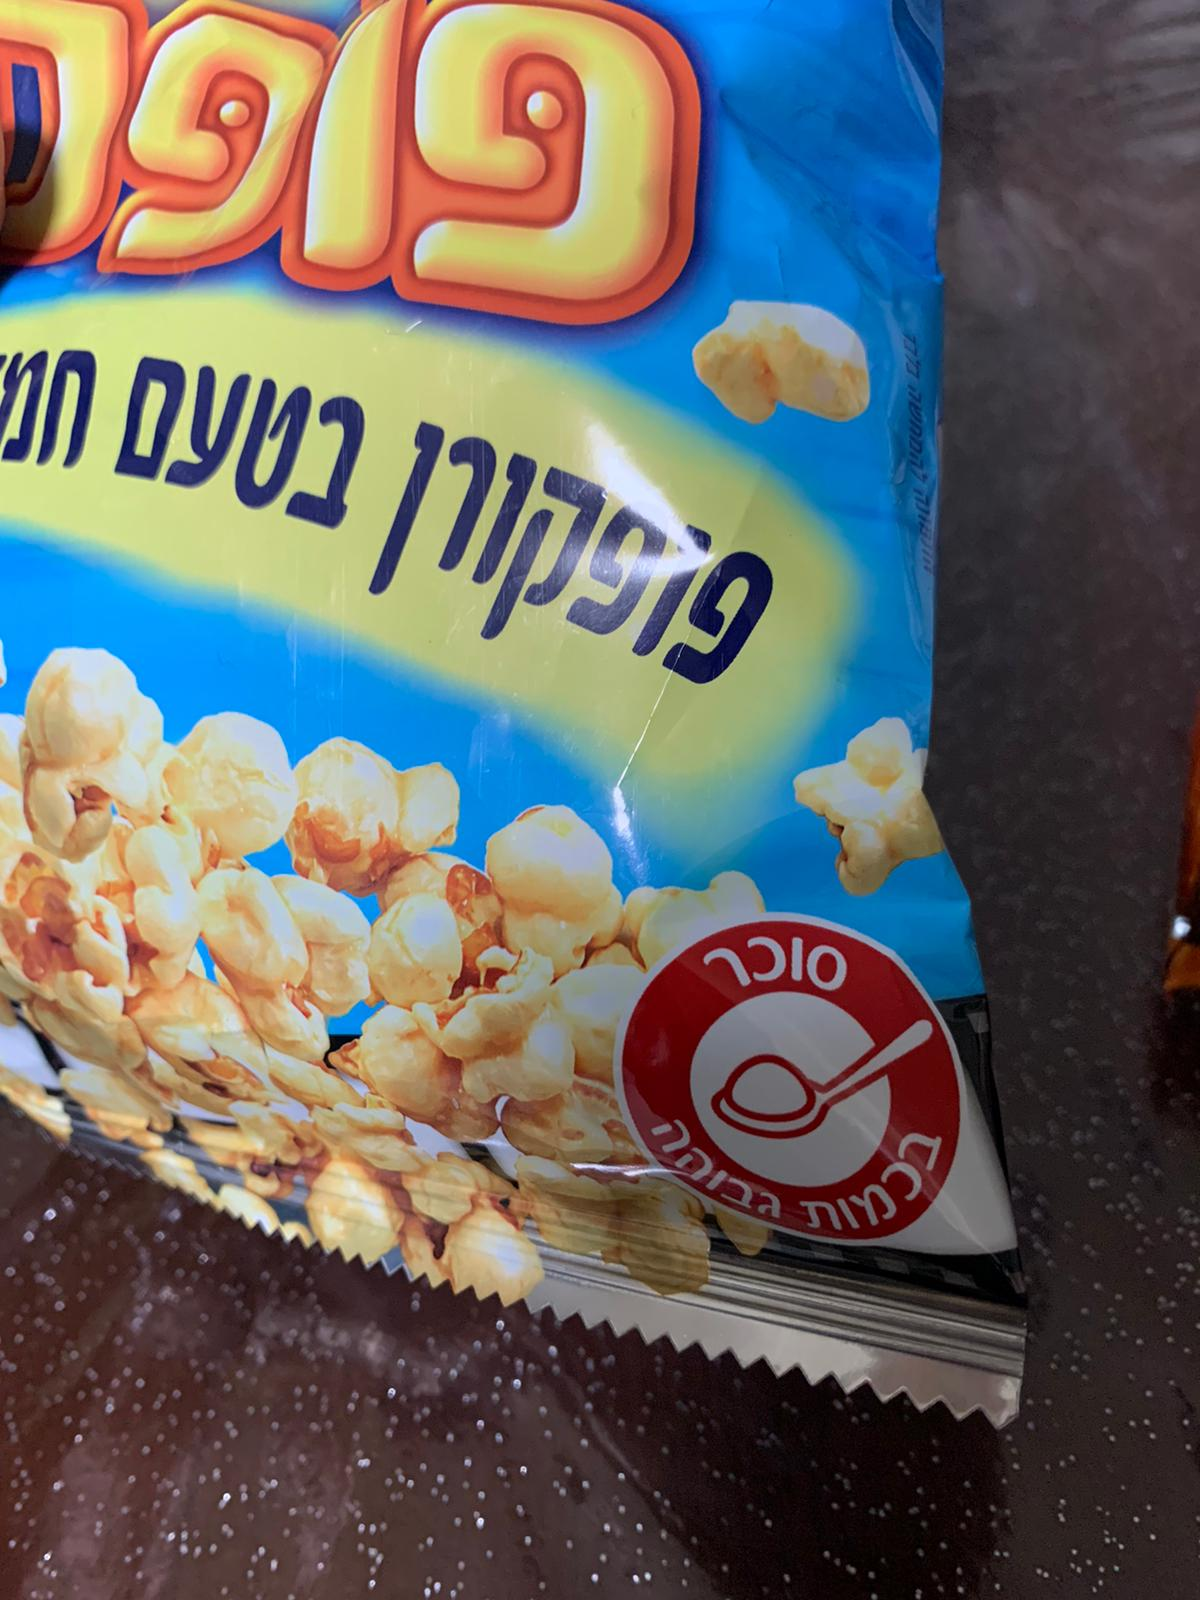sugar: (609, 913, 962, 1250)
